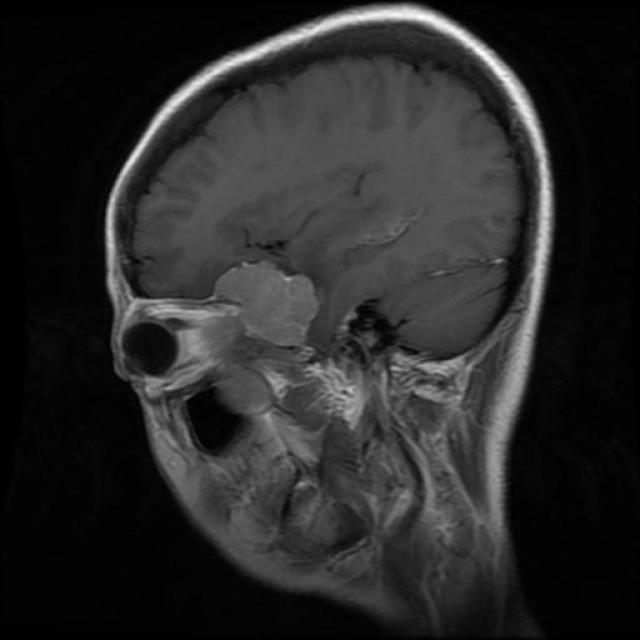meningioma: (215, 261, 318, 346)
